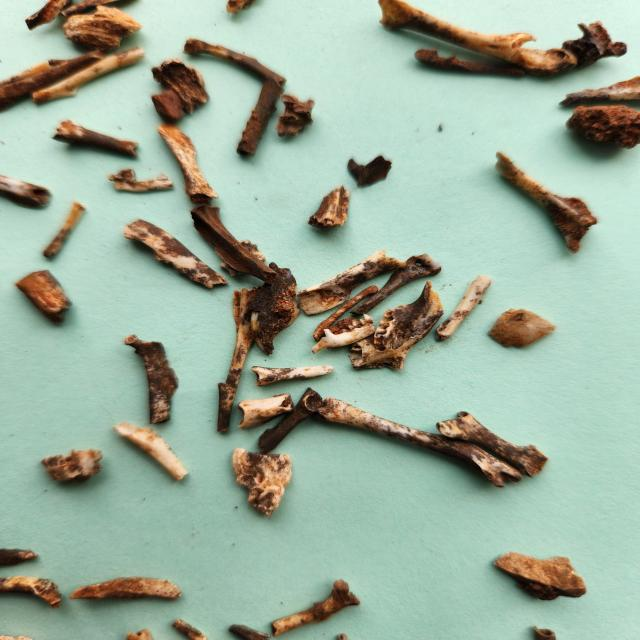fossil: (374, 1, 629, 85), (318, 393, 532, 489), (182, 36, 292, 164), (212, 270, 295, 439), (486, 146, 606, 260), (0, 40, 159, 114), (188, 204, 302, 296), (346, 277, 446, 373), (114, 213, 234, 292), (293, 243, 410, 320), (432, 408, 554, 477), (115, 334, 196, 426), (481, 544, 600, 606), (26, 47, 148, 107), (265, 576, 379, 638), (106, 418, 201, 492), (348, 250, 449, 319), (148, 121, 228, 201), (223, 443, 298, 524), (256, 383, 325, 460), (61, 570, 186, 607), (434, 272, 498, 344), (57, 5, 153, 53), (45, 117, 146, 162), (312, 281, 384, 343), (14, 268, 88, 328), (564, 101, 640, 158), (148, 59, 214, 124), (411, 46, 528, 82), (555, 14, 629, 70), (32, 200, 96, 263), (487, 304, 564, 348), (553, 73, 640, 111), (36, 445, 108, 488), (301, 182, 357, 236), (233, 390, 299, 435), (343, 151, 407, 196), (270, 90, 322, 144), (310, 314, 377, 355), (0, 166, 57, 212), (252, 361, 346, 388), (0, 571, 65, 610), (104, 162, 178, 195), (217, 237, 271, 280), (22, 0, 73, 33), (59, 0, 131, 20), (166, 617, 212, 640), (225, 620, 276, 640), (216, 0, 264, 20), (0, 542, 50, 560), (531, 623, 560, 640), (122, 626, 156, 640)
